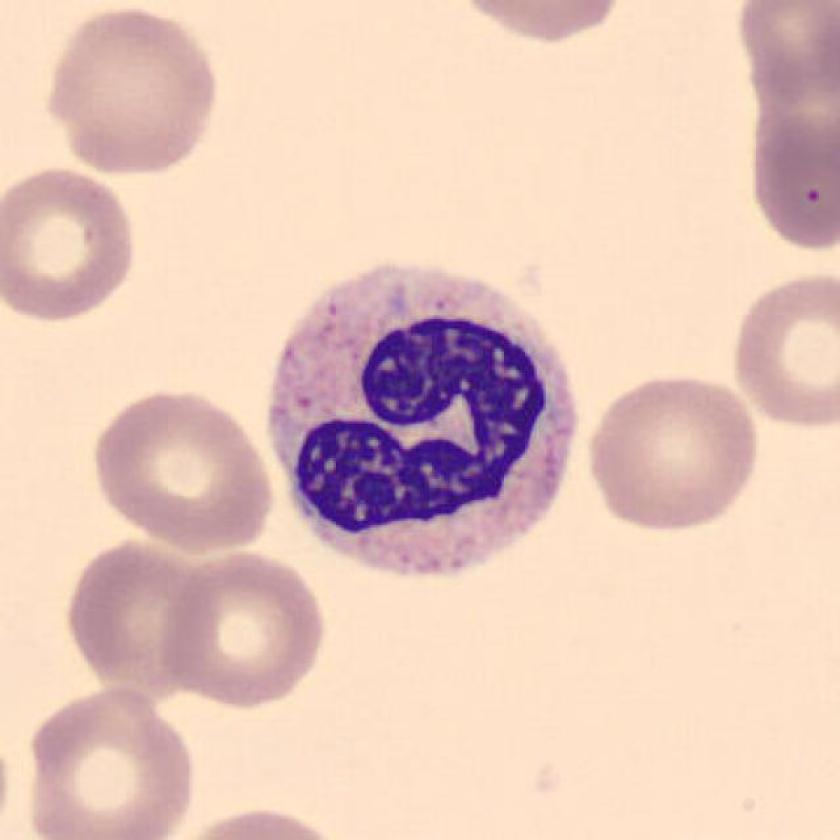neutrophil: (270, 267, 576, 576)
